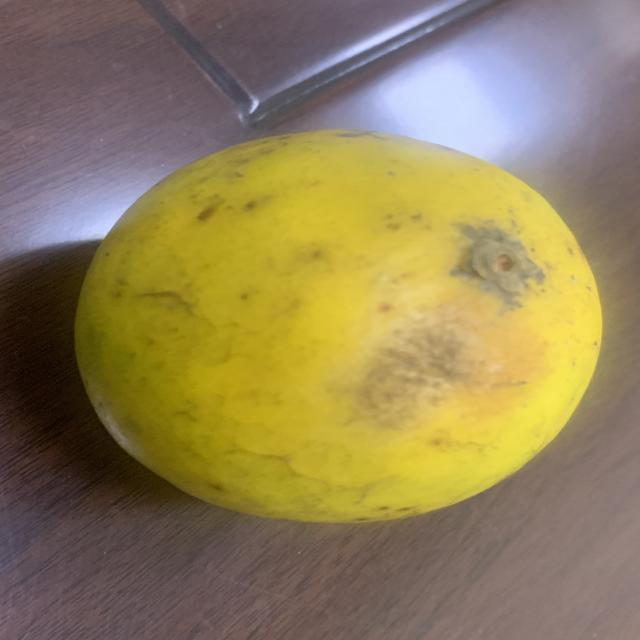Ripe orange: (62, 120, 608, 526)
